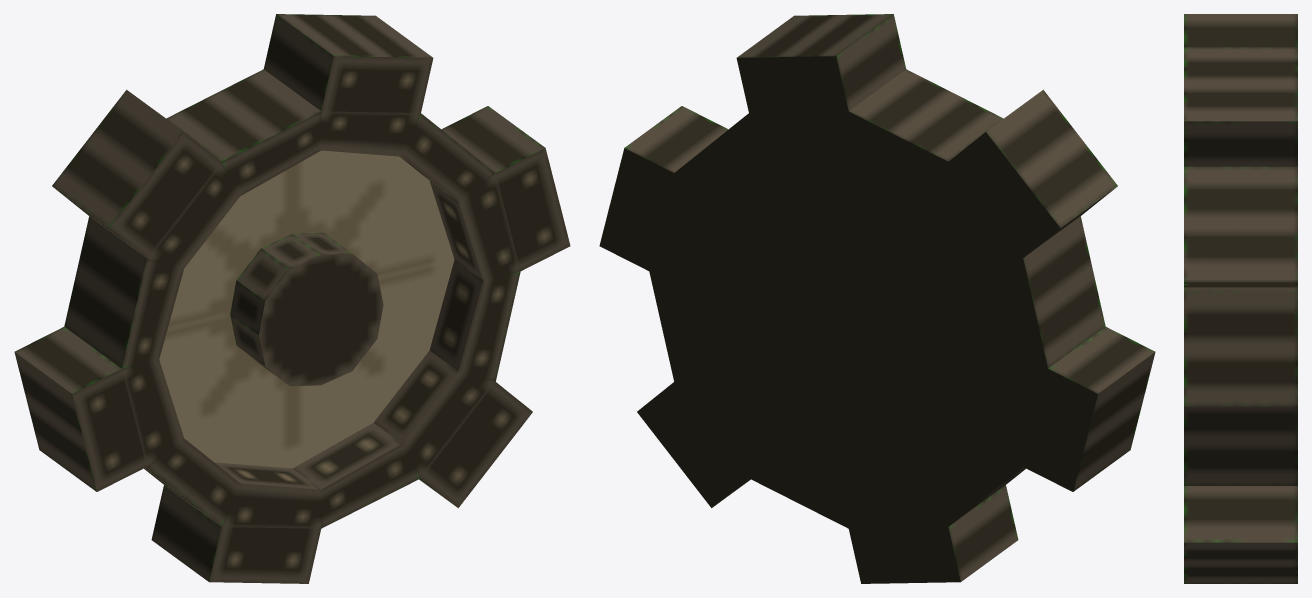
The model's file is MidSteam.fbx.
3 views of the same model, side by side, from view 1: azimuth 30°, elevation 25°; view 2: azimuth 150°, elevation 25°; view 3: azimuth 270°, elevation 25° (orthographic).
Visible parts, largest first — view 1: MiddleSteam; view 2: MiddleSteam; view 3: MiddleSteam.
Part boxes in pixels (left/top/right/bottom): MiddleSteam: left=14, top=14, right=570, bottom=583; MiddleSteam: left=599, top=14, right=1155, bottom=583; MiddleSteam: left=1184, top=14, right=1297, bottom=583.
Bounding box in the file's own units: 188 × 188 × 37.5.
